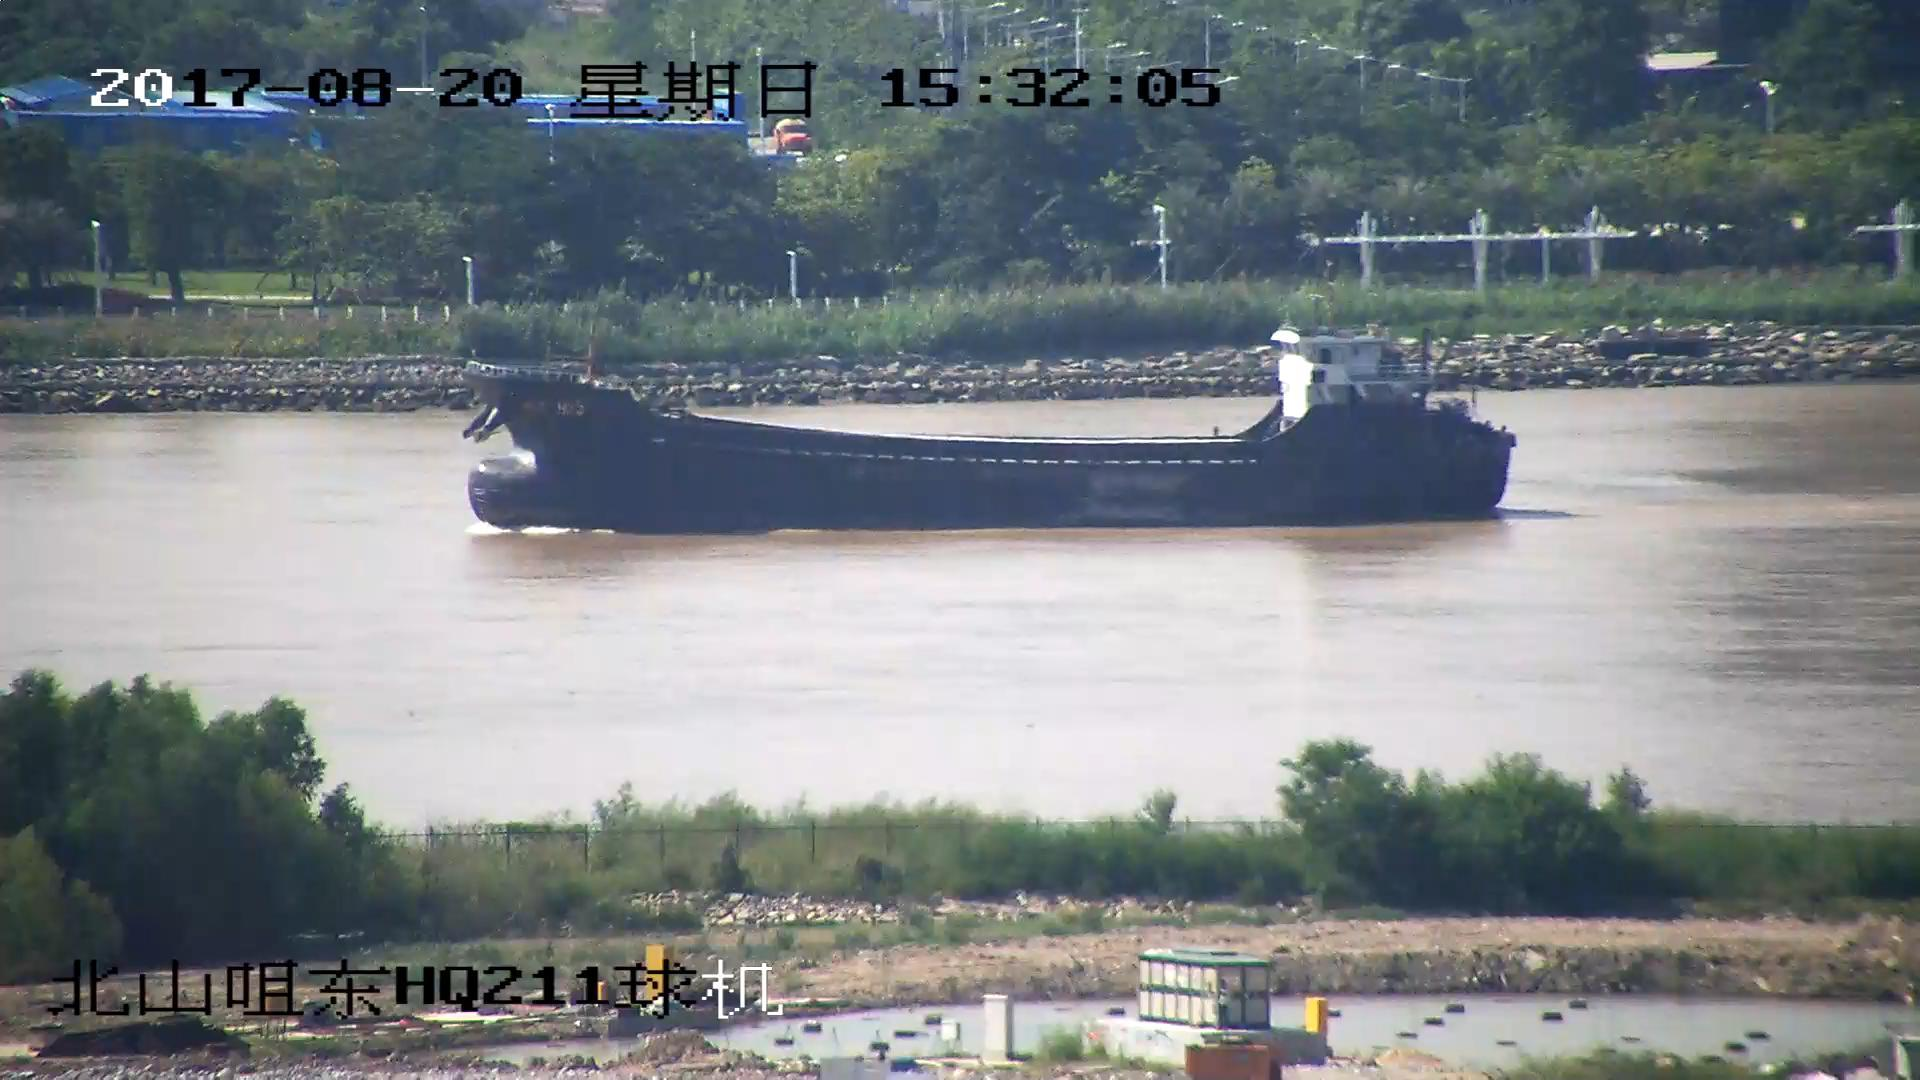Ship: (464, 315, 1509, 531)
